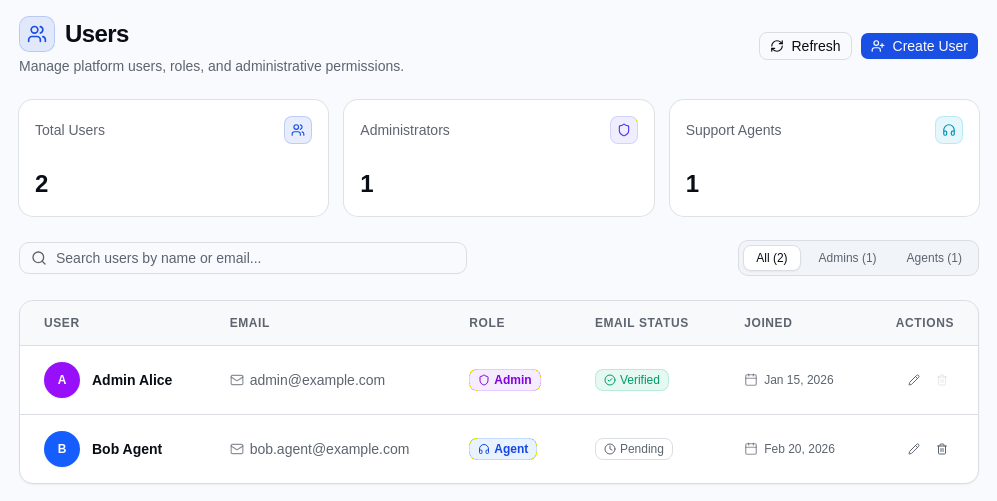
it: UsersPage Component › 3. Search & Text Filtering › filters users in real-time when searching by user name
Check: the text "Admin Alice" is shown, box top-left (92, 372), bottom-right (172, 388)
Type "Bob" into the search field with placeholder "Search users by name or email..." at (243, 258), box top-left (19, 242), bottom-right (467, 274)
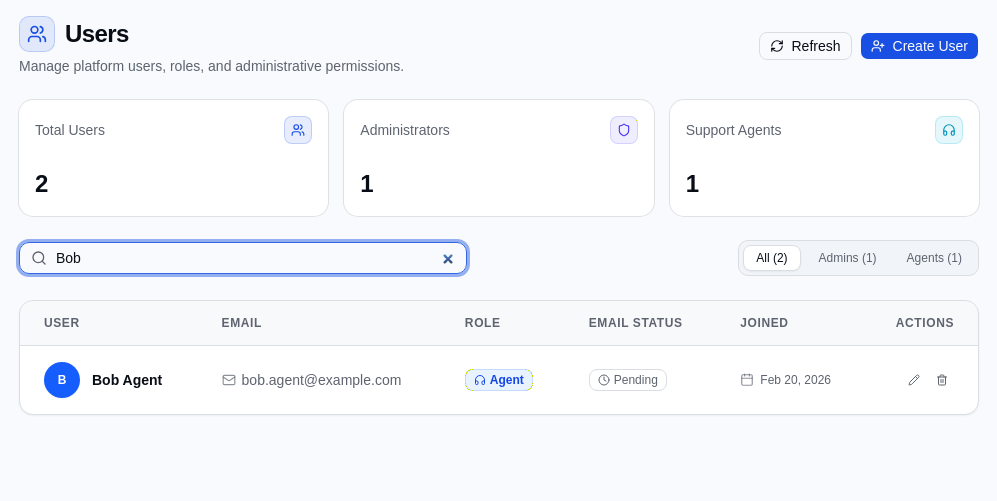
Check: the text "Bob Agent" is shown, box top-left (92, 372), bottom-right (162, 388)
Check: the text "Admin Alice" is gone
